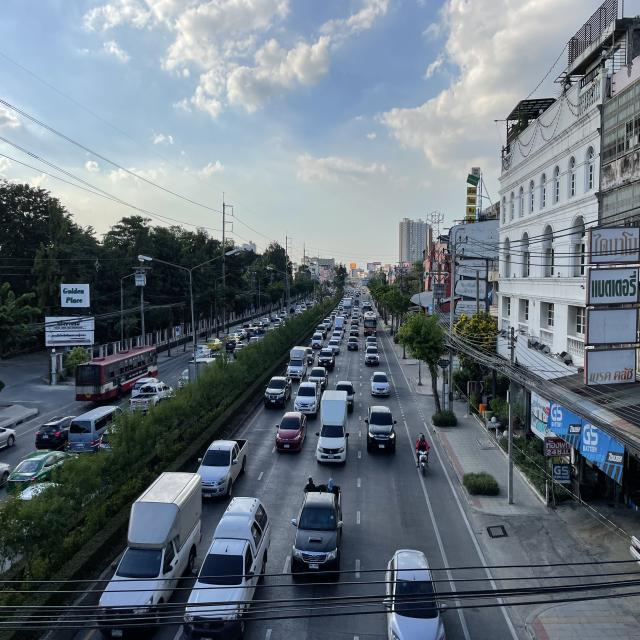bike: (413, 430, 430, 478)
bus: (363, 312, 377, 336)
car: (383, 546, 450, 640), (291, 478, 343, 581), (195, 436, 248, 501), (365, 404, 397, 458), (275, 410, 307, 453), (264, 374, 292, 410), (334, 381, 356, 412), (370, 370, 391, 398), (308, 367, 328, 391), (318, 348, 335, 372), (364, 346, 380, 366), (311, 332, 324, 348), (327, 339, 340, 355), (364, 336, 378, 350), (346, 336, 359, 351), (348, 324, 359, 336)
truck: (95, 470, 203, 640), (182, 497, 272, 640), (316, 390, 349, 466), (294, 377, 322, 419), (286, 346, 308, 381), (333, 316, 345, 339)
